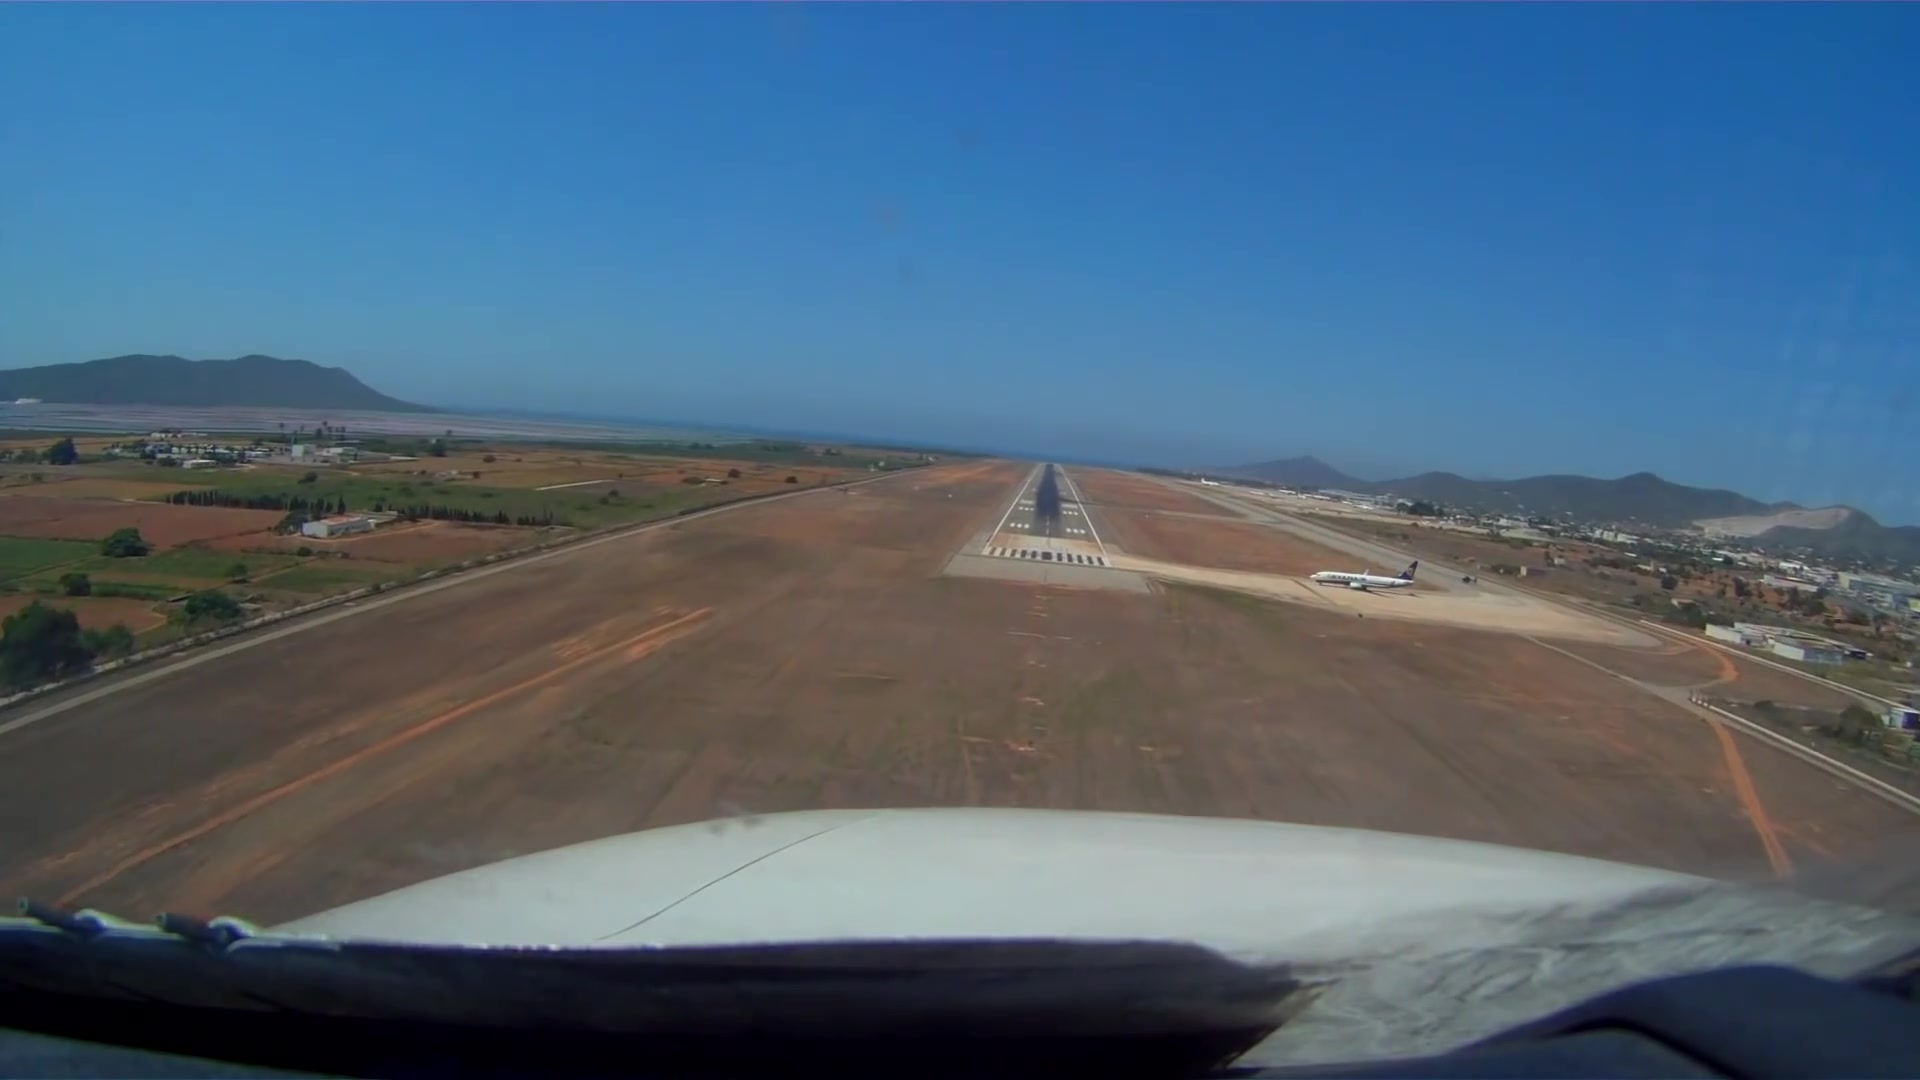entrance: (982, 545, 1106, 567)
runway: (980, 463, 1114, 571)
